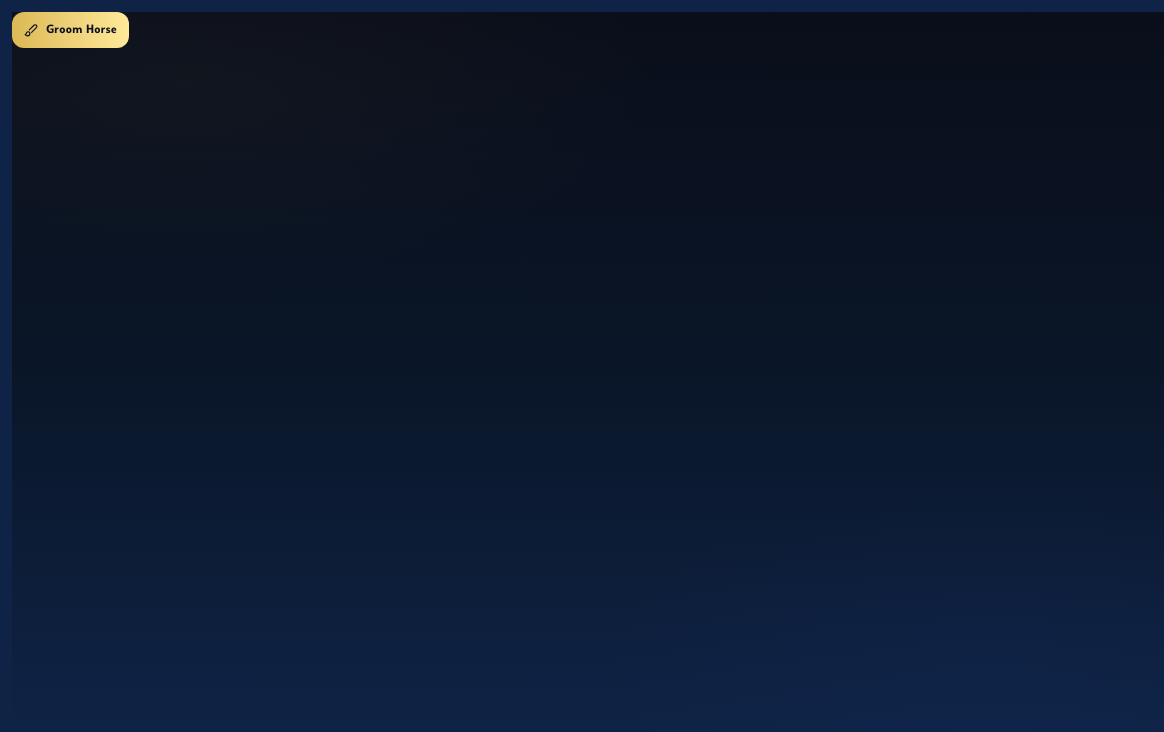
Test: Groom Horse in Quick Actions (Equoria-7dje4) › grooms an adult horse in one press, then says it is groomed today
Click the button "Groom Horse": click(71, 30) 12,12 -> 129,48
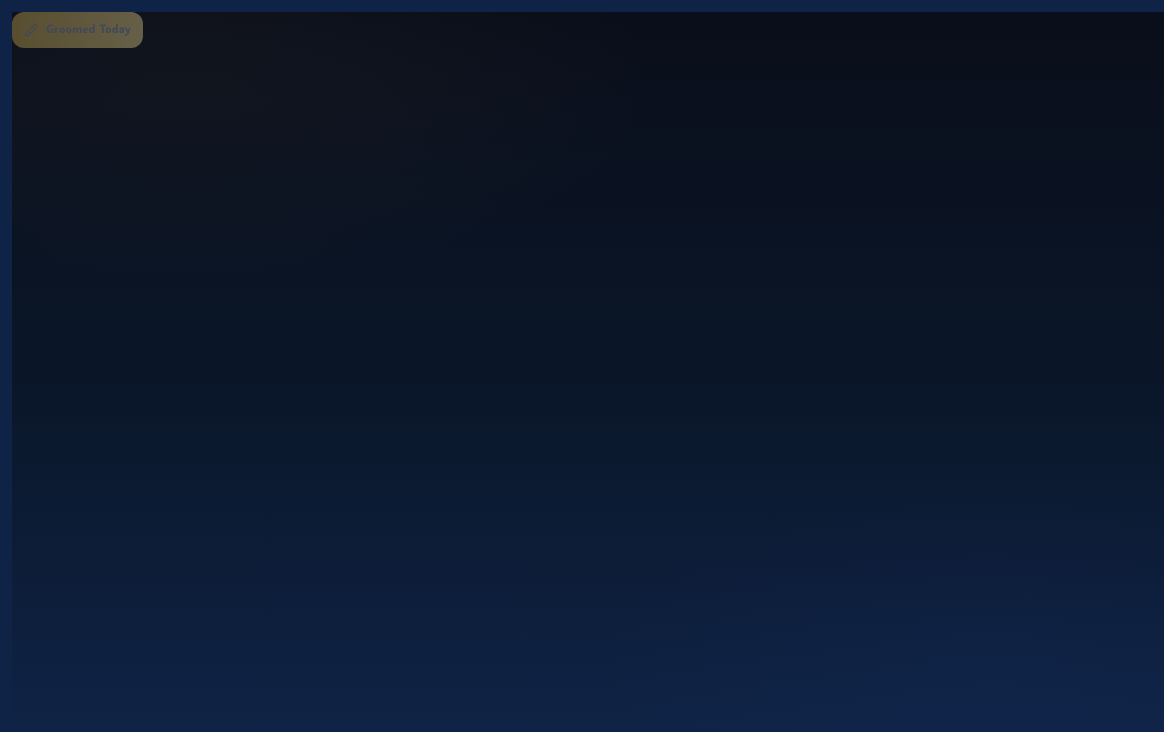
Expected: the button "Groomed Today" is disabled, 12,12 -> 143,48
